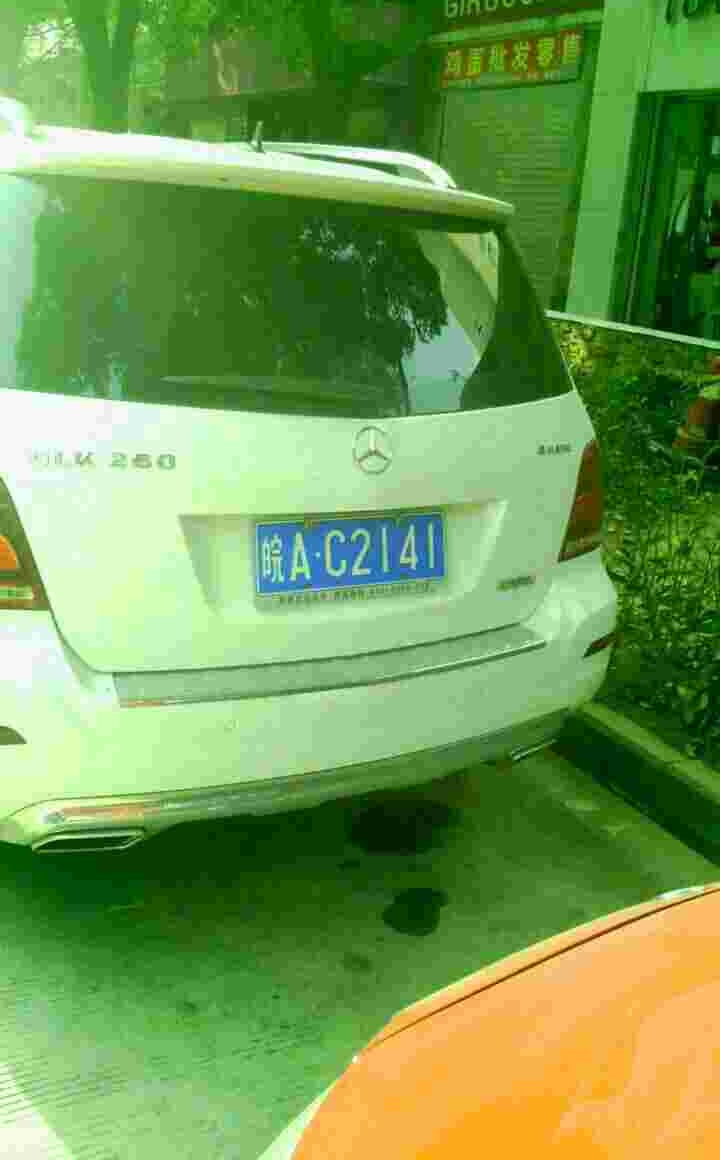license_plate: (261, 521, 456, 591)
